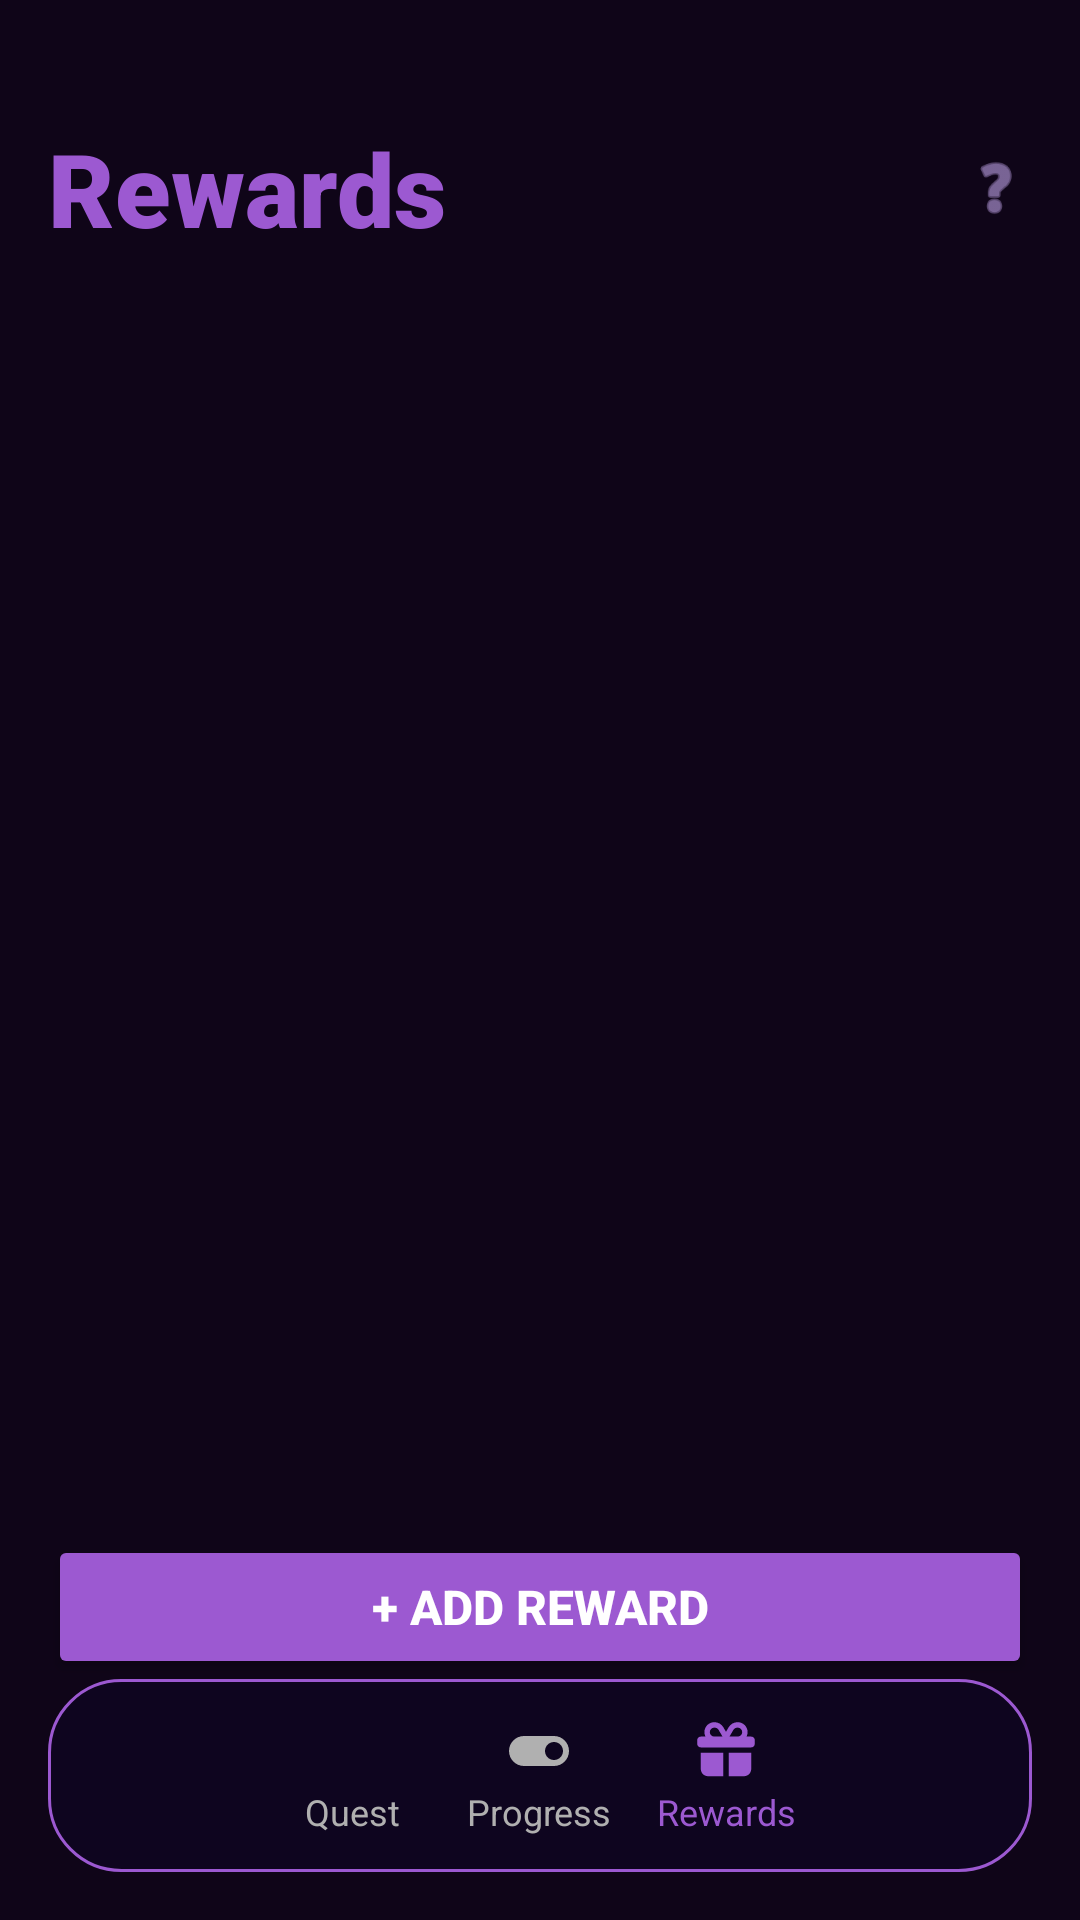

Point at icon controls on the screen. Image size 1080px x 1920px, points as (x=x, y=y).
gift: (x=726, y=1749)
help: (x=996, y=188)
